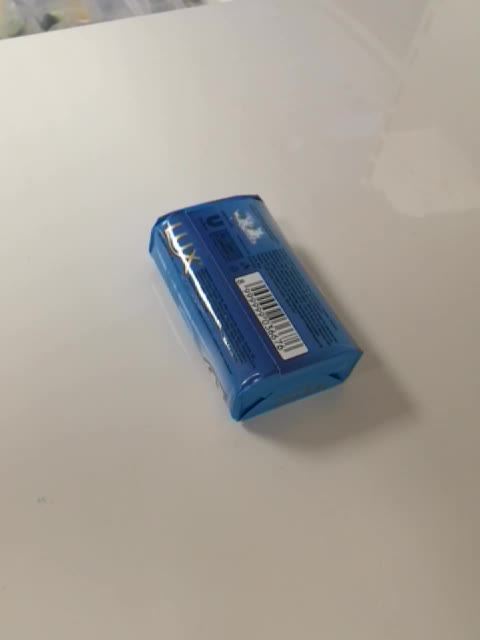soap: (146, 193, 365, 423)
